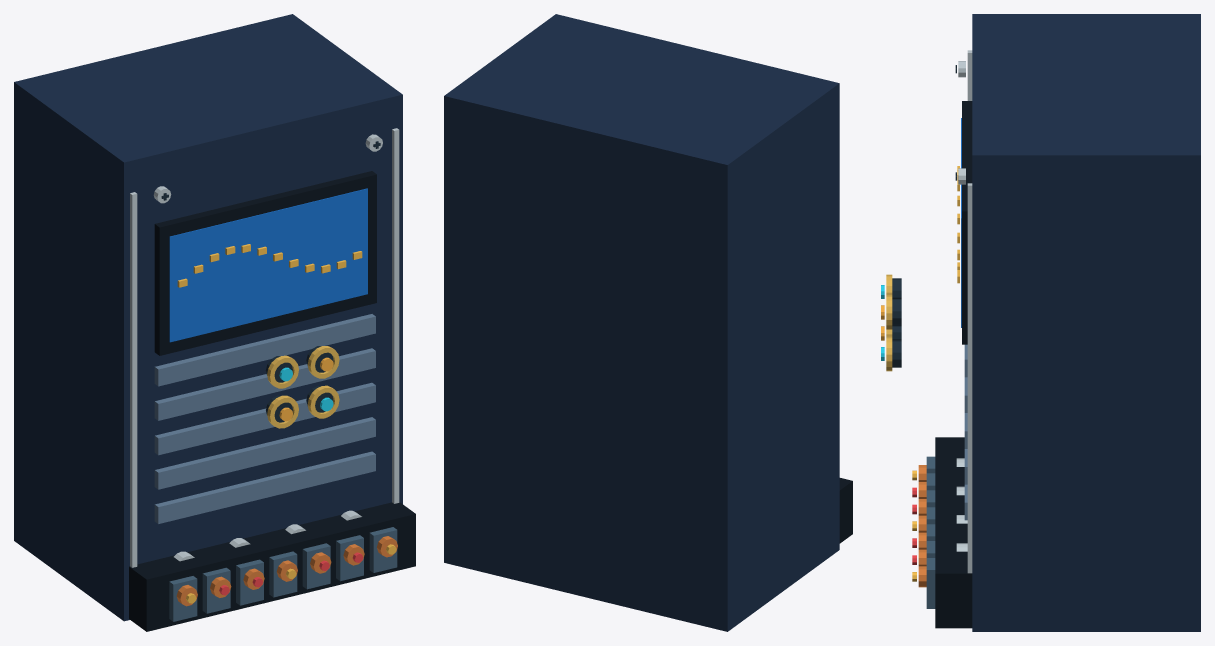
Rendered from 24_L83_MPPTControllerStarboard.fbx.
3 renders of one model, left to right at view 1: azimuth 30°, elevation 25°; view 2: azimuth 150°, elevation 25°; view 3: azimuth 270°, elevation 25°, orthographic. The views are drawn at different scales.
Parts seen in each view (by area): view 1: MPPTControllerStarboard; view 2: MPPTControllerStarboard; view 3: MPPTControllerStarboard.
Boxes of the visible parts, x1=… form: MPPTControllerStarboard: x1=14, y1=14, x2=415, y2=631; MPPTControllerStarboard: x1=444, y1=14, x2=852, y2=631; MPPTControllerStarboard: x1=881, y1=14, x2=1200, y2=631.
Size of the model in its own units: 117 by 184 by 112.
